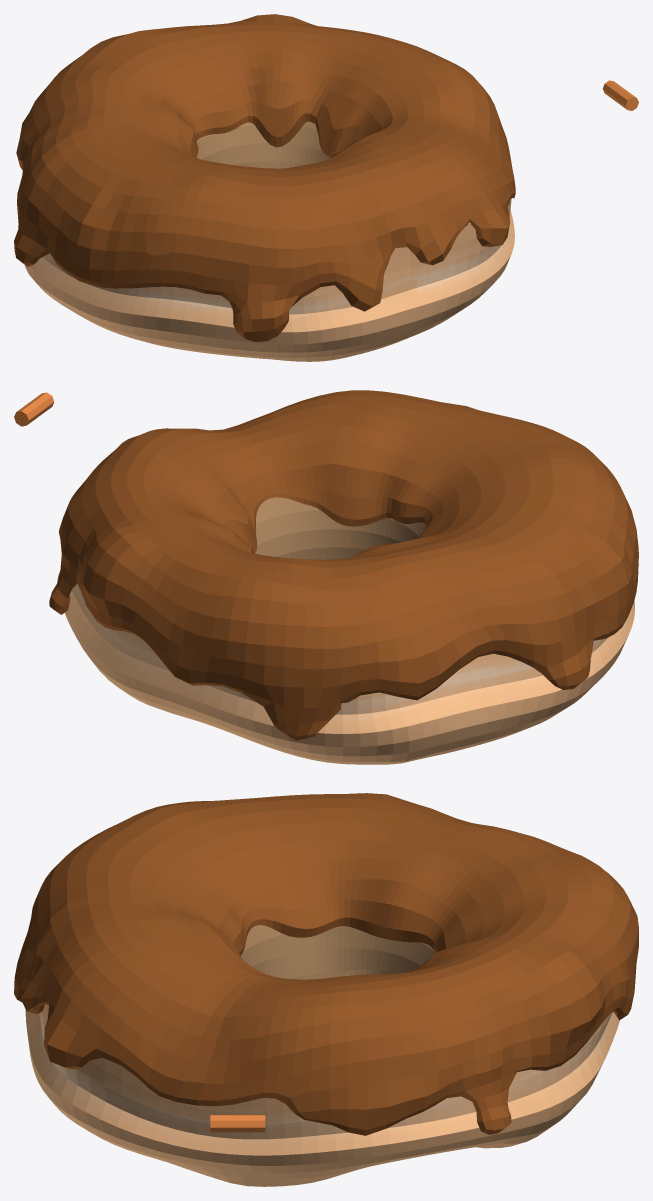
File: algo.gltf
The picture shows the model from 3 angles, top to bottom: view 1: azimuth 30°, elevation 25°; view 2: azimuth 150°, elevation 25°; view 3: azimuth 270°, elevation 25°; orthographic projection. The views are drawn at different scales.
Visible parts, largest first — view 1: icing, donud, Cylinder; view 2: icing, donud, Cylinder; view 3: icing, donud, Cylinder.
Part boxes in pixels (bbox=[...]): icing: bbox=[14, 14, 515, 341]; donud: bbox=[24, 121, 514, 361]; Cylinder: bbox=[603, 80, 638, 110]; icing: bbox=[49, 390, 638, 740]; donud: bbox=[57, 497, 634, 764]; Cylinder: bbox=[14, 392, 54, 426]; icing: bbox=[14, 793, 638, 1135]; donud: bbox=[25, 925, 619, 1186]; Cylinder: bbox=[210, 1115, 265, 1132].
Size of what is drawn, in the model's own units: 0.1242 by 0.0411 by 0.1011.
3 materials, 1 textured.
